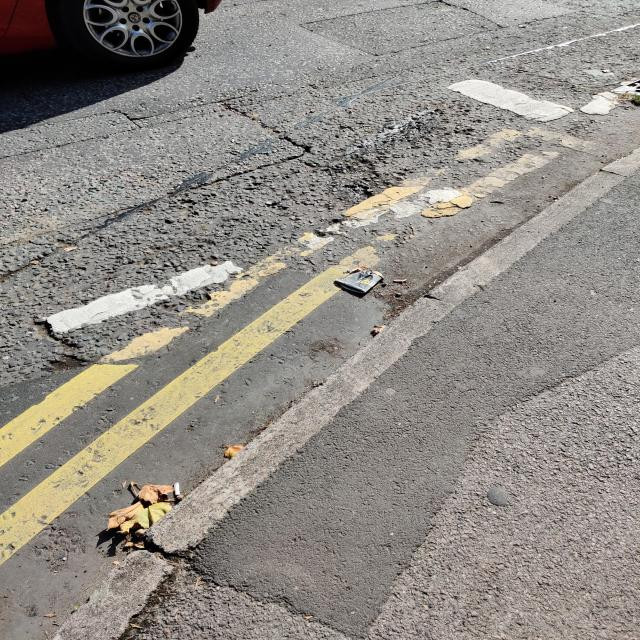litter: (335, 269, 382, 292), (174, 482, 180, 495)
